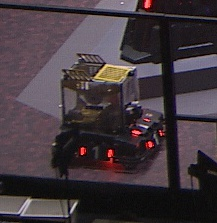armor: (79, 143, 114, 161), (145, 127, 165, 150), (131, 117, 150, 136)
car: (50, 50, 167, 173)
